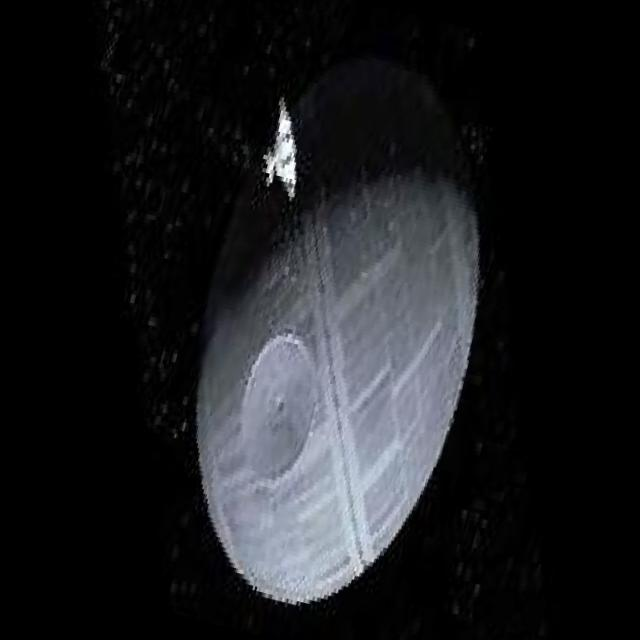Death Star: (115, 14, 541, 640)
